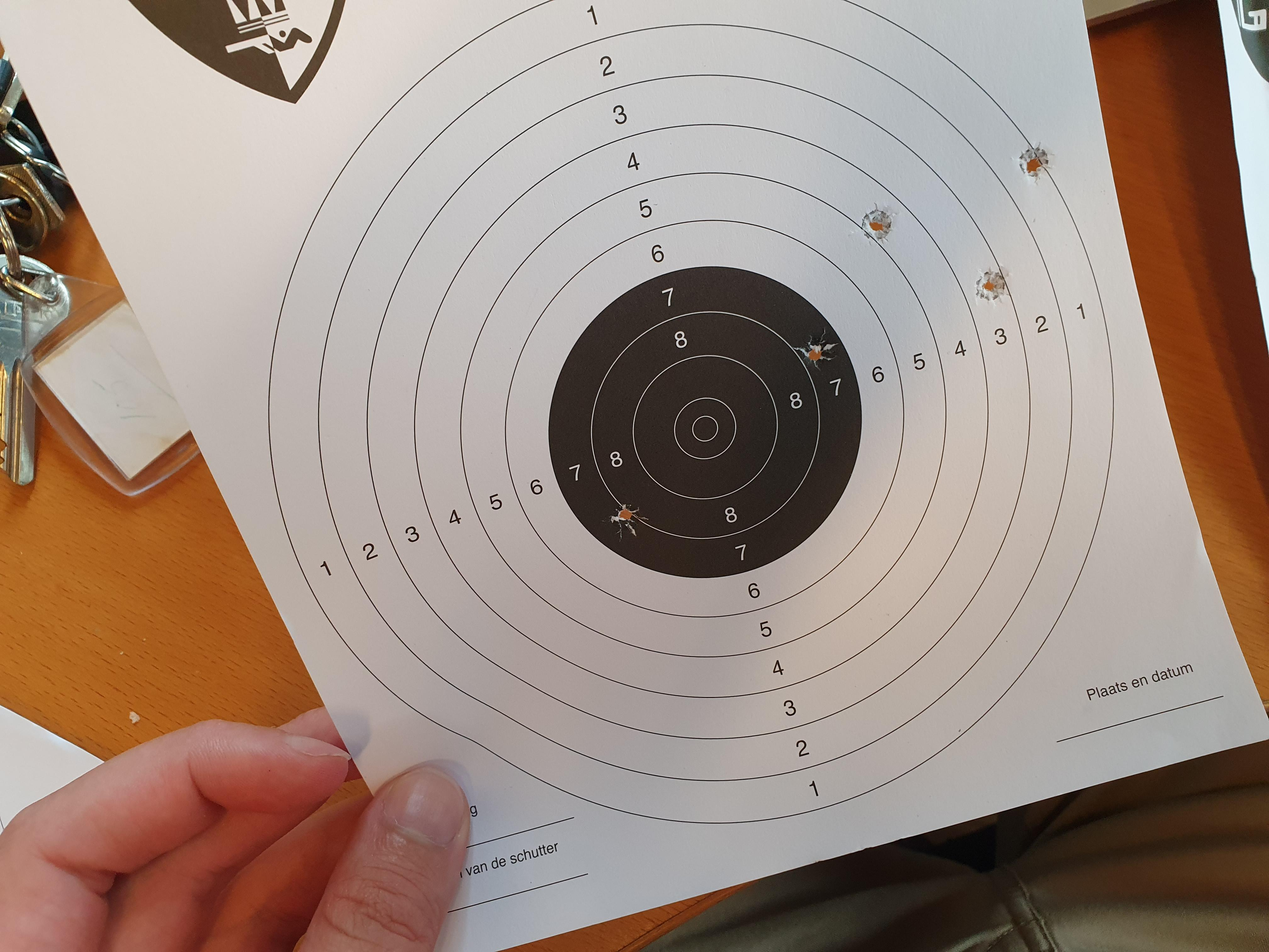hole: (770, 597, 833, 631), (1022, 759, 1083, 790), (547, 454, 602, 486), (946, 645, 999, 671), (866, 730, 911, 757)
